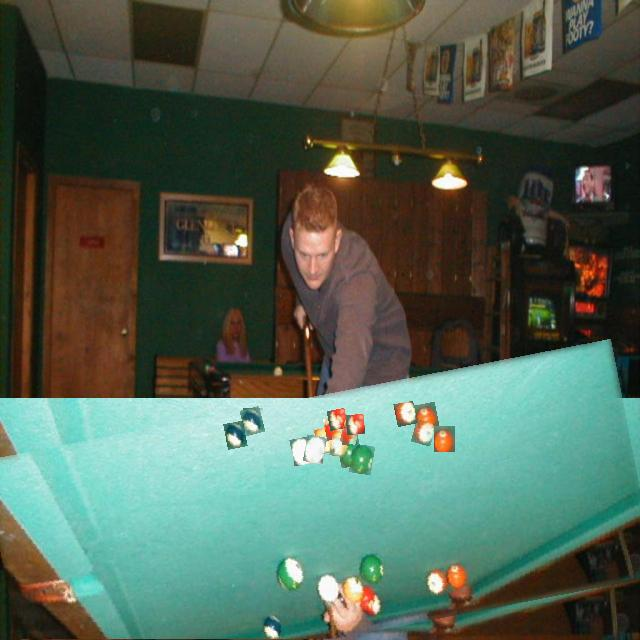Ball: (264, 452, 296, 490), (350, 444, 374, 475), (304, 435, 326, 464), (242, 407, 264, 435), (413, 420, 435, 445), (434, 426, 455, 452), (330, 431, 349, 456), (341, 421, 359, 445), (347, 415, 365, 435)
Billiard table: (0, 368, 640, 640)
